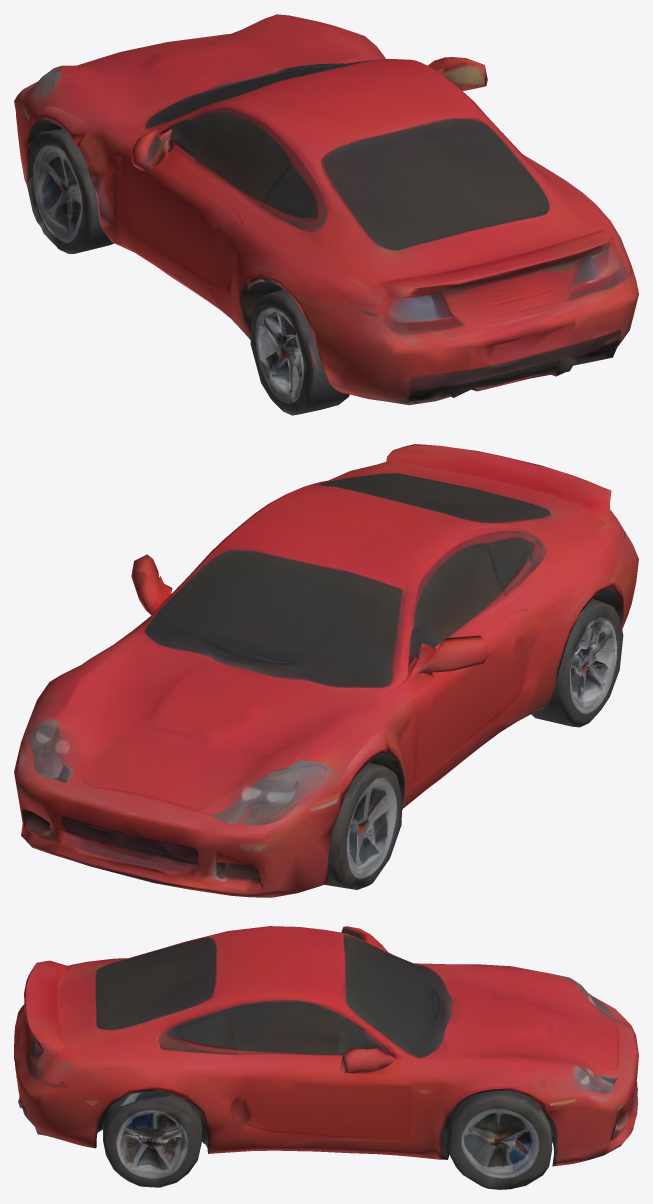
Rendered from turbo-v1.glb.
The picture shows the model from 3 angles, top to bottom: view 1: azimuth 30°, elevation 25°; view 2: azimuth 150°, elevation 25°; view 3: azimuth 270°, elevation 25°; orthographic projection. The views are drawn at different scales.
Parts seen in each view (by area): view 1: tripo_node_f4ef1bcf-eb82-4212-8ec4-d0cbcffa594a; view 2: tripo_node_f4ef1bcf-eb82-4212-8ec4-d0cbcffa594a; view 3: tripo_node_f4ef1bcf-eb82-4212-8ec4-d0cbcffa594a.
Boxes of the visible parts, box(x1,y1,x2,y2) form: tripo_node_f4ef1bcf-eb82-4212-8ec4-d0cbcffa594a: box(14, 14, 638, 415); tripo_node_f4ef1bcf-eb82-4212-8ec4-d0cbcffa594a: box(14, 444, 638, 897); tripo_node_f4ef1bcf-eb82-4212-8ec4-d0cbcffa594a: box(14, 926, 638, 1189).
Bounding box in the file's own units: 0.5116 × 0.3106 × 1.
Materials: 1 (1 with a texture image).
